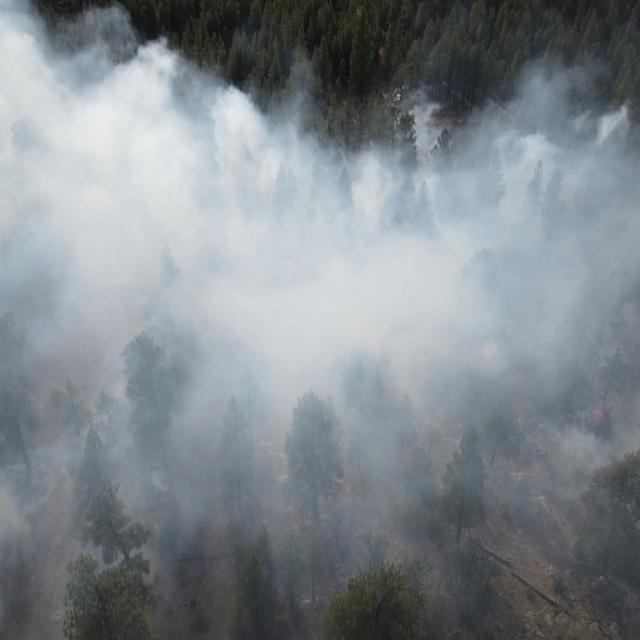smoke: (0, 36, 640, 640), (0, 0, 132, 38)
